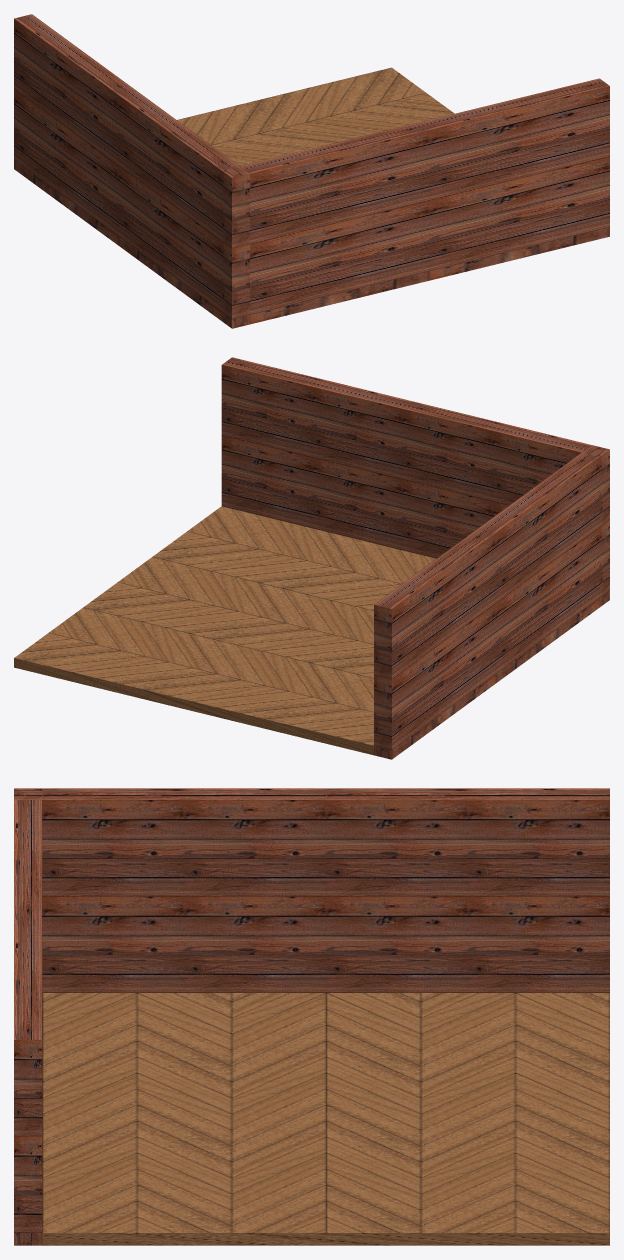
The model's file is theroom.obj.
The picture shows the model from 3 angles, top to bottom: view 1: azimuth 30°, elevation 25°; view 2: azimuth 150°, elevation 25°; view 3: azimuth 270°, elevation 25°; orthographic projection. The views are drawn at different scales.
Size of the model in its own units: 31.5 by 12 by 31.5.
Materials: 2 (2 with a texture image).
